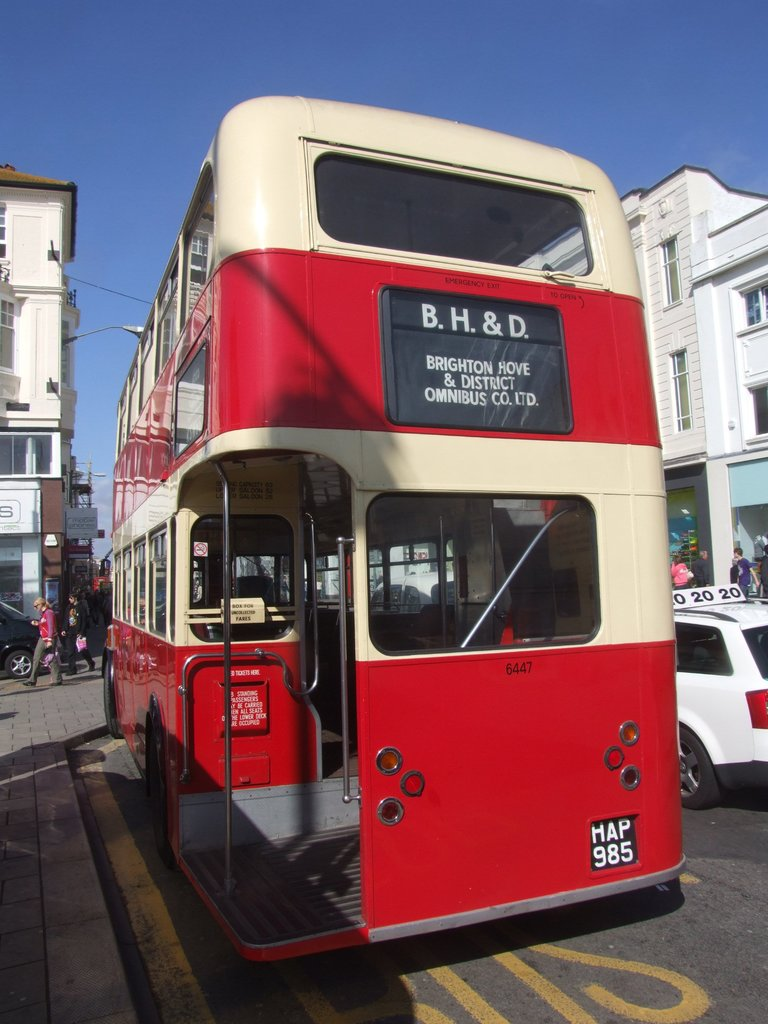Bus: (92, 89, 687, 957)
